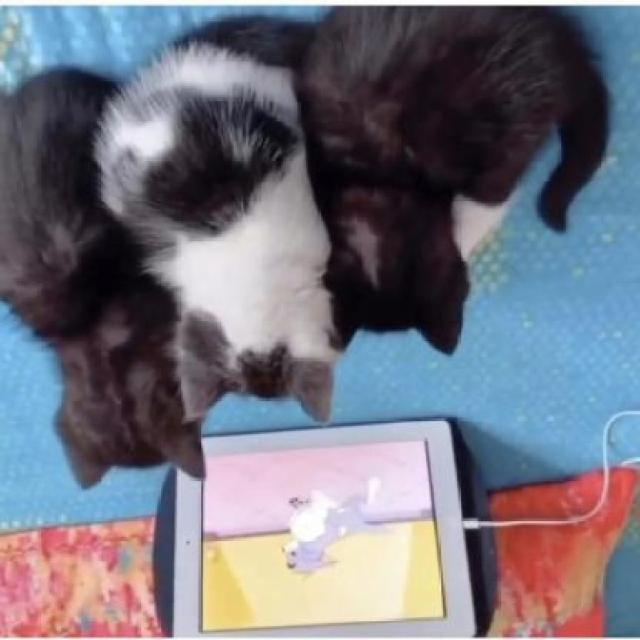cat: (304, 0, 611, 365), (108, 23, 337, 432), (0, 57, 206, 506)
